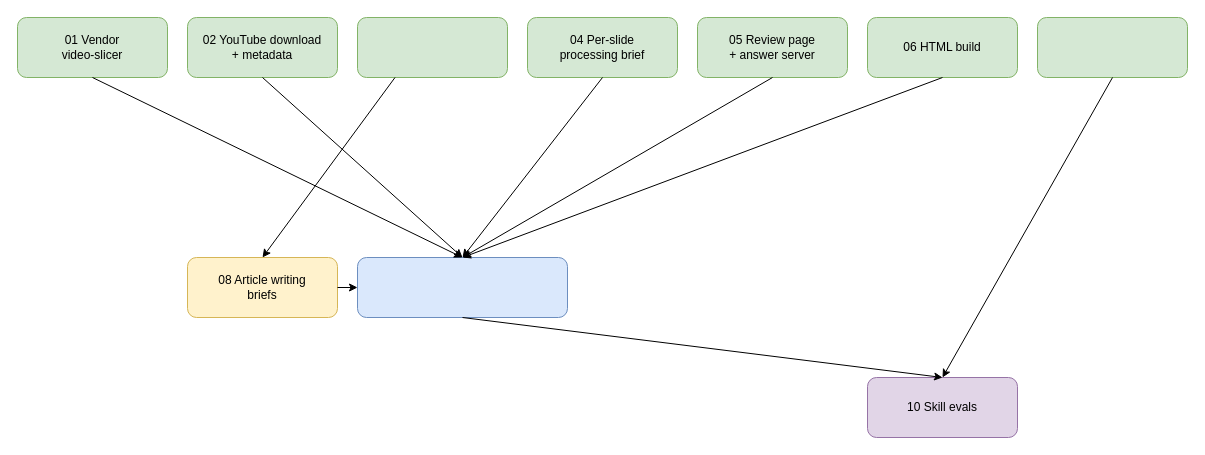
This 1205x455 diagram has some shape labels left out. Here are the shapes that lost their labels. From the top down, the centre of each, then its label:
At [432,47]: "03 Transcription + transcript.md".
At [1112,47]: "07 Reference talks ground truth".
At [462,287]: "09 Orchestrator SKILL.md end to end".
